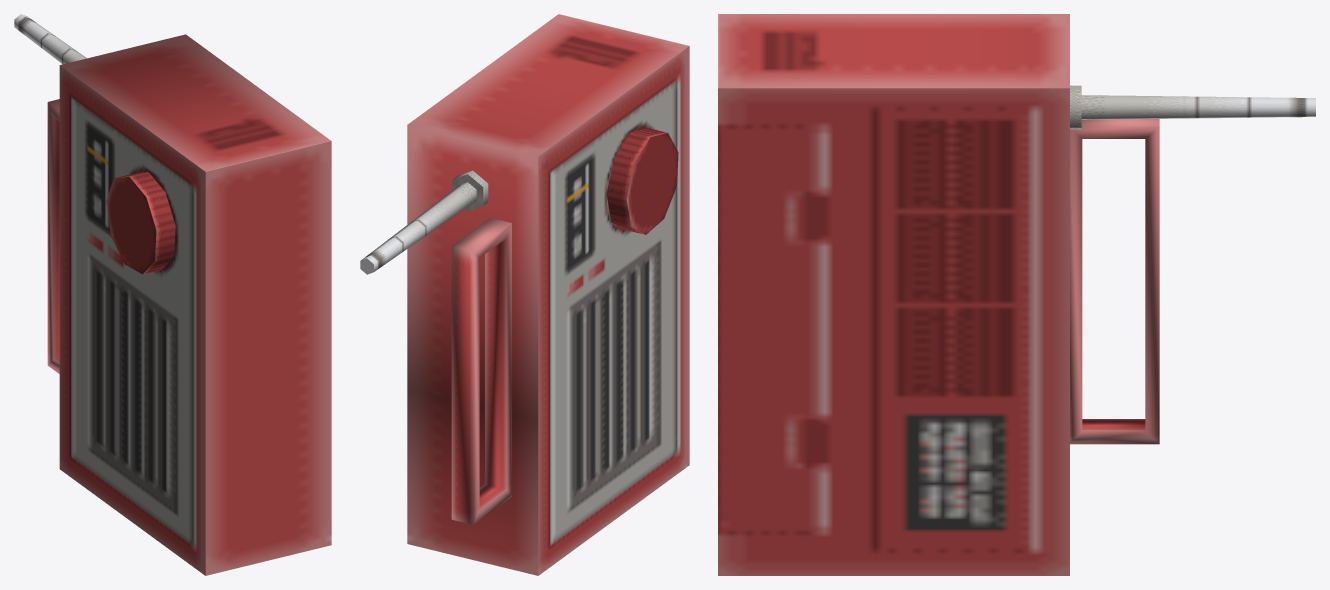
Rendered from Radio_Hand.fbx.
3 views of the same model, side by side, from view 1: azimuth 30°, elevation 25°; view 2: azimuth 150°, elevation 25°; view 3: azimuth 270°, elevation 25° (orthographic). The views are drawn at different scales.
Parts seen in each view (by area): view 1: Radio; view 2: Radio; view 3: Radio.
Part boxes in pixels (bbox=[...]): Radio: bbox=[14, 14, 331, 575]; Radio: bbox=[360, 14, 689, 575]; Radio: bbox=[718, 14, 1315, 575].
Bounding box in the file's own units: 0.0606 × 0.1609 × 0.1788.
